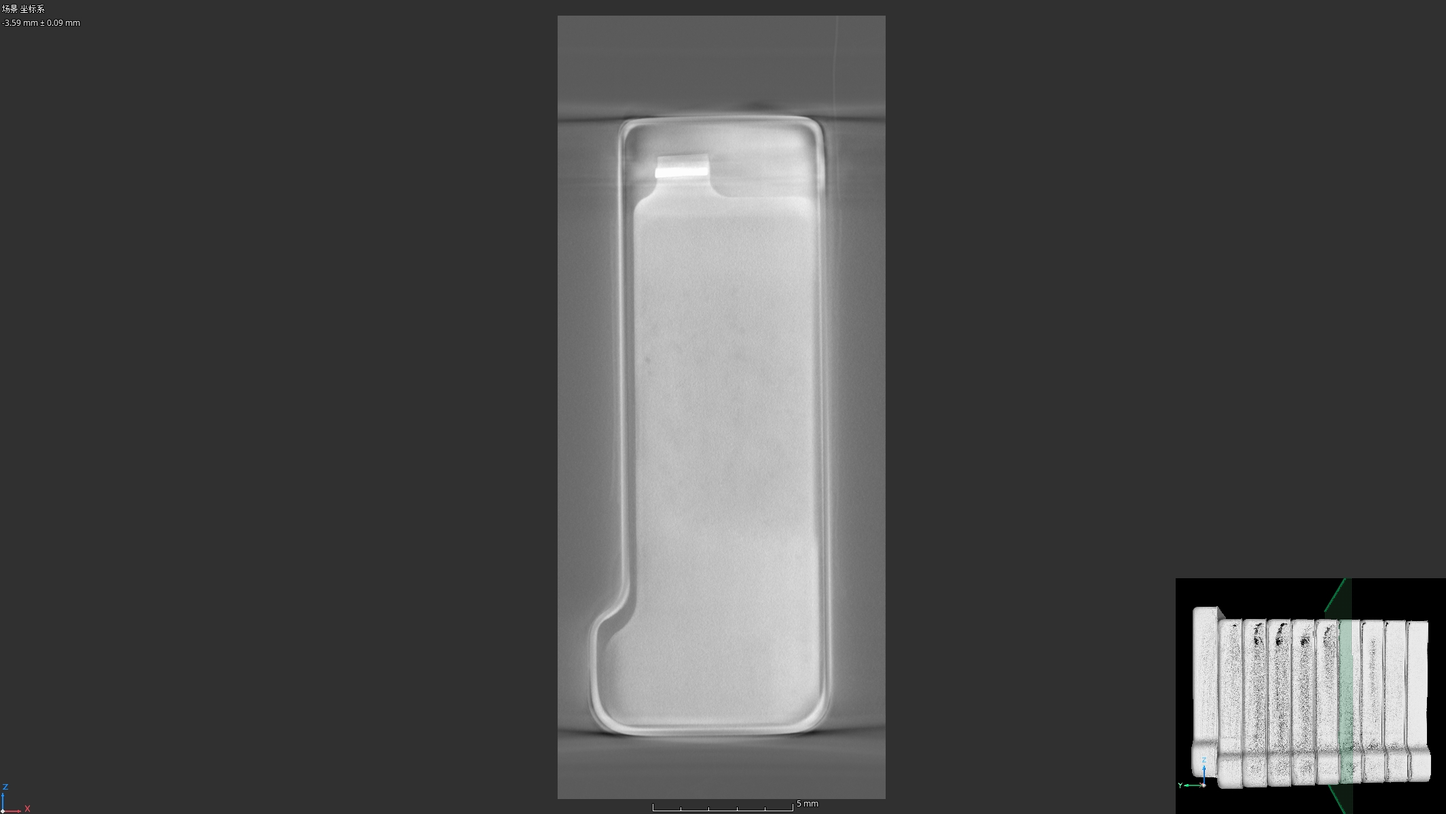dark: (641, 354, 652, 365)
